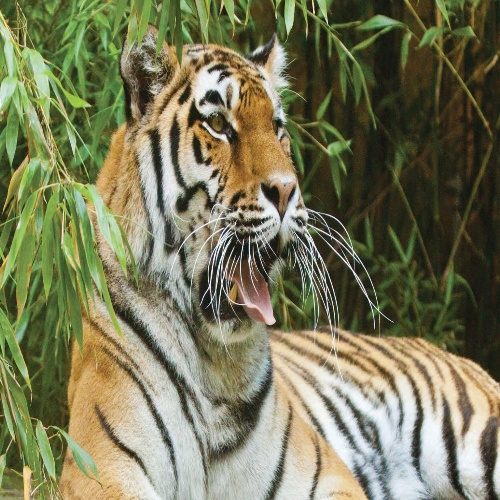tiger: (76, 13, 473, 470)
